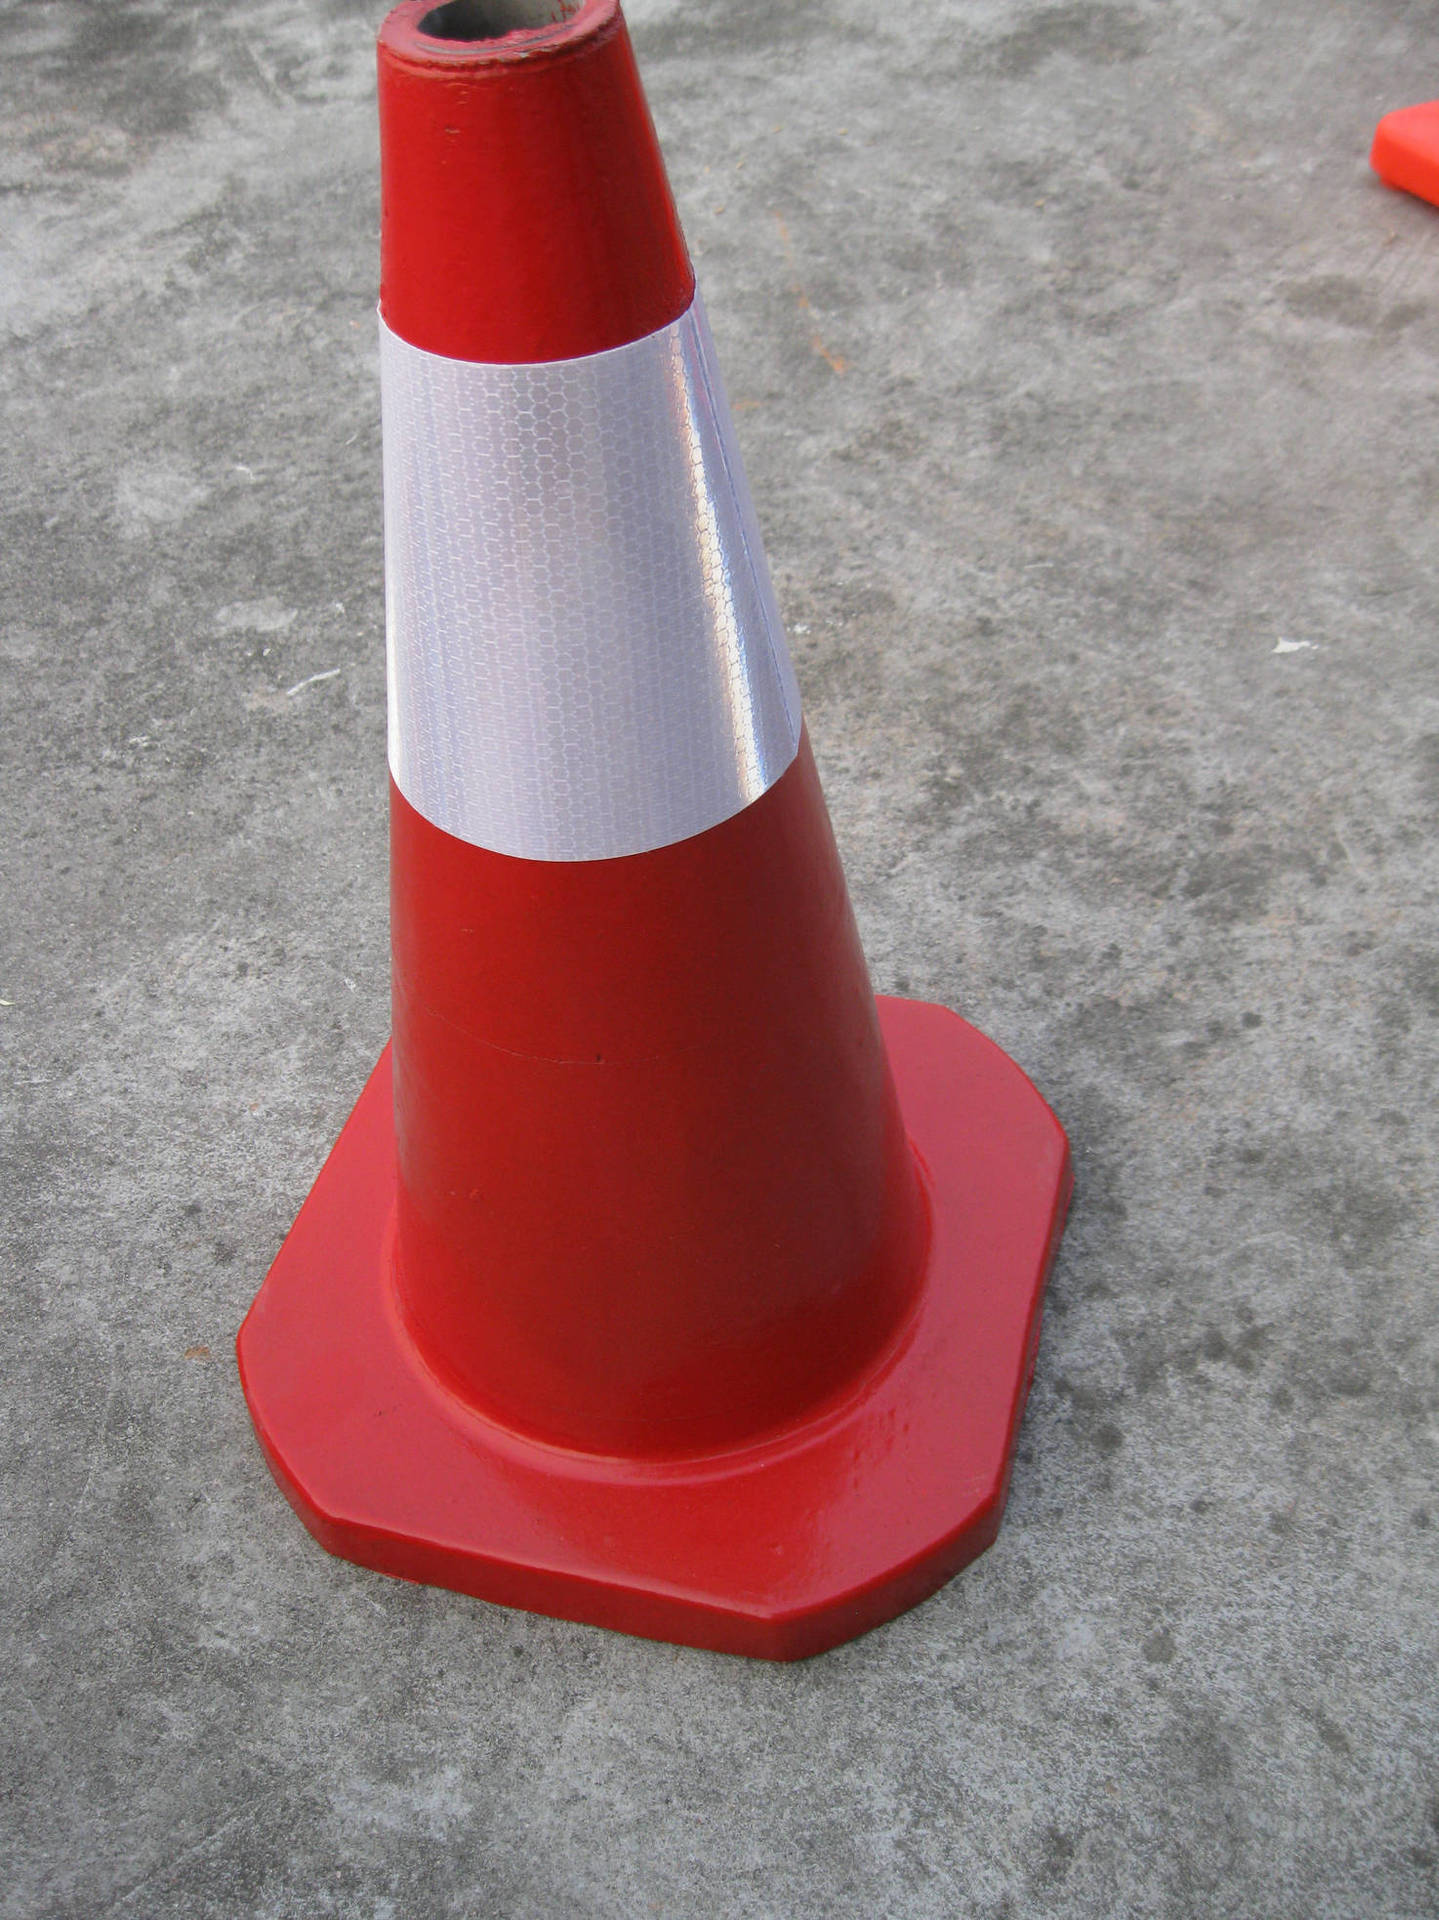traffic_cone: (246, 11, 1073, 1680)
